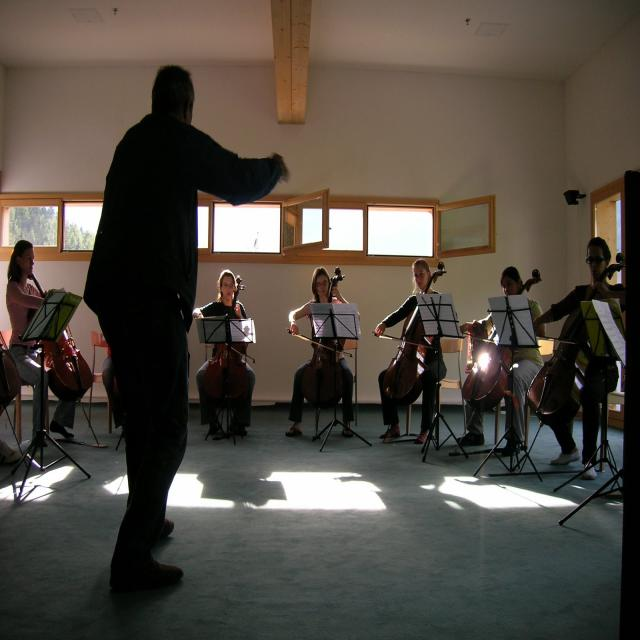cello: (527, 251, 626, 425), (25, 269, 102, 407), (25, 269, 98, 403), (378, 266, 445, 408), (461, 283, 534, 413), (193, 277, 259, 409), (300, 266, 348, 407)
